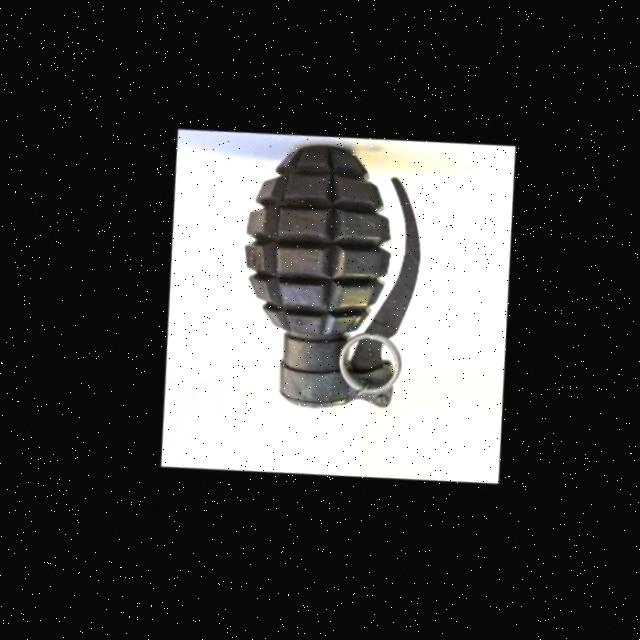grenade: (191, 120, 465, 441)
